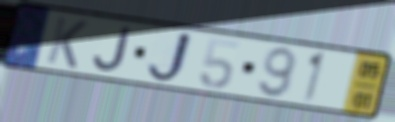1: (301, 49, 332, 107)
5: (198, 35, 243, 90)
9: (256, 46, 300, 100)
J: (144, 29, 196, 85), (91, 25, 134, 74)
K: (43, 14, 91, 71)
